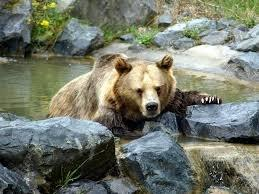bear: (49, 54, 223, 137)
